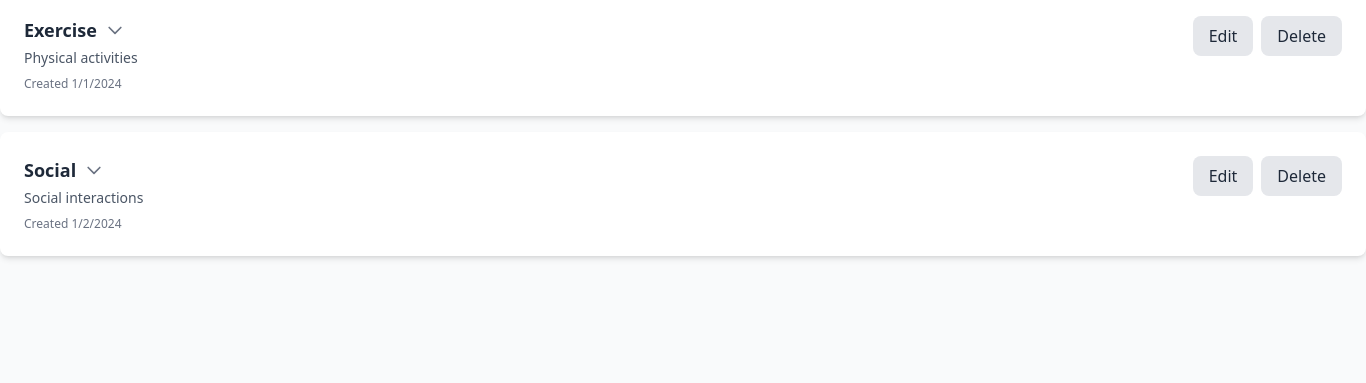
Test: ActivityGroupList › Expand/Collapse Functionality (Task 3.3) › should allow multiple groups to be expanded simultaneously
// Expand both groups
Click the button named "Expand group" next to "Exercise" at (115, 30), box [105,20,125,40]
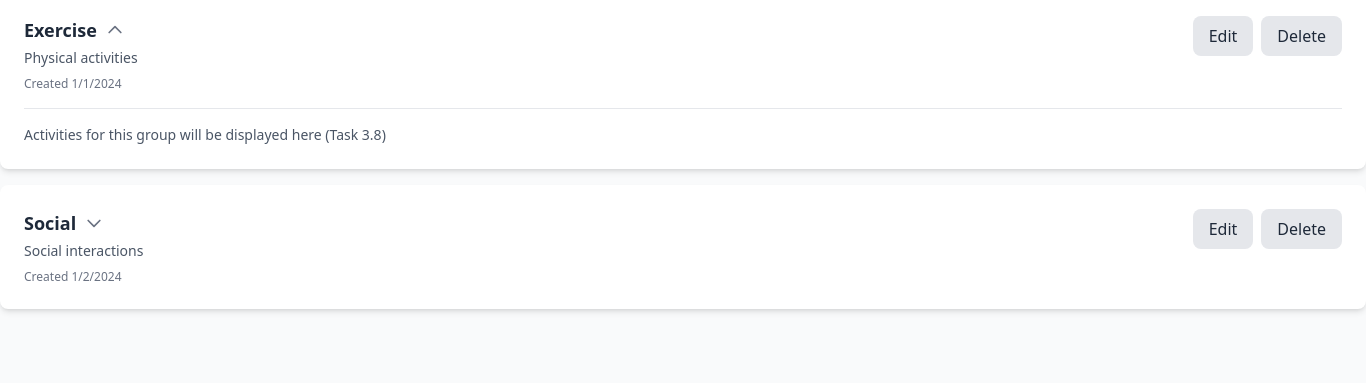
Click the button named "Expand group" at (94, 223), box [84,213,104,233]
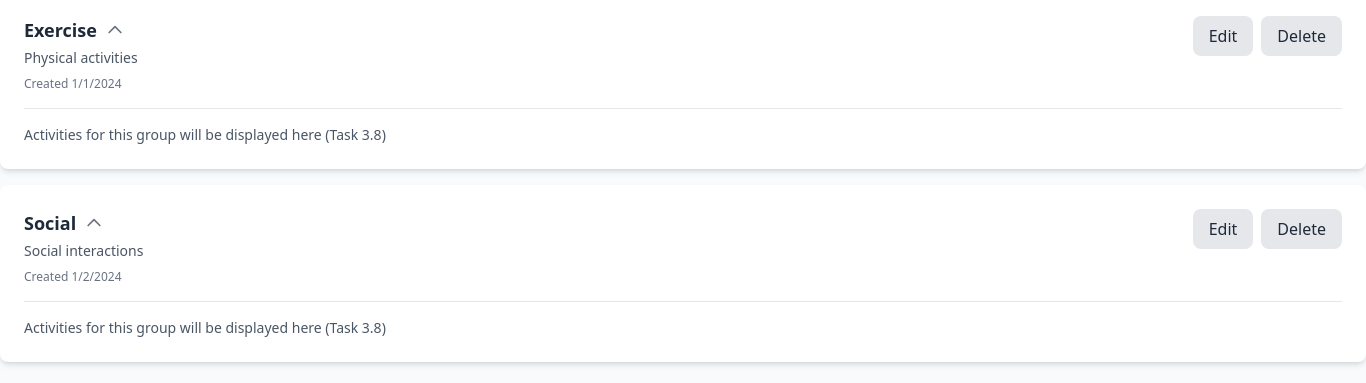
Now the text "Activities for this group will be displayed here (Task 3.8)" is shown 2 times, box [24,125,386,144]; [24,318,386,337]
